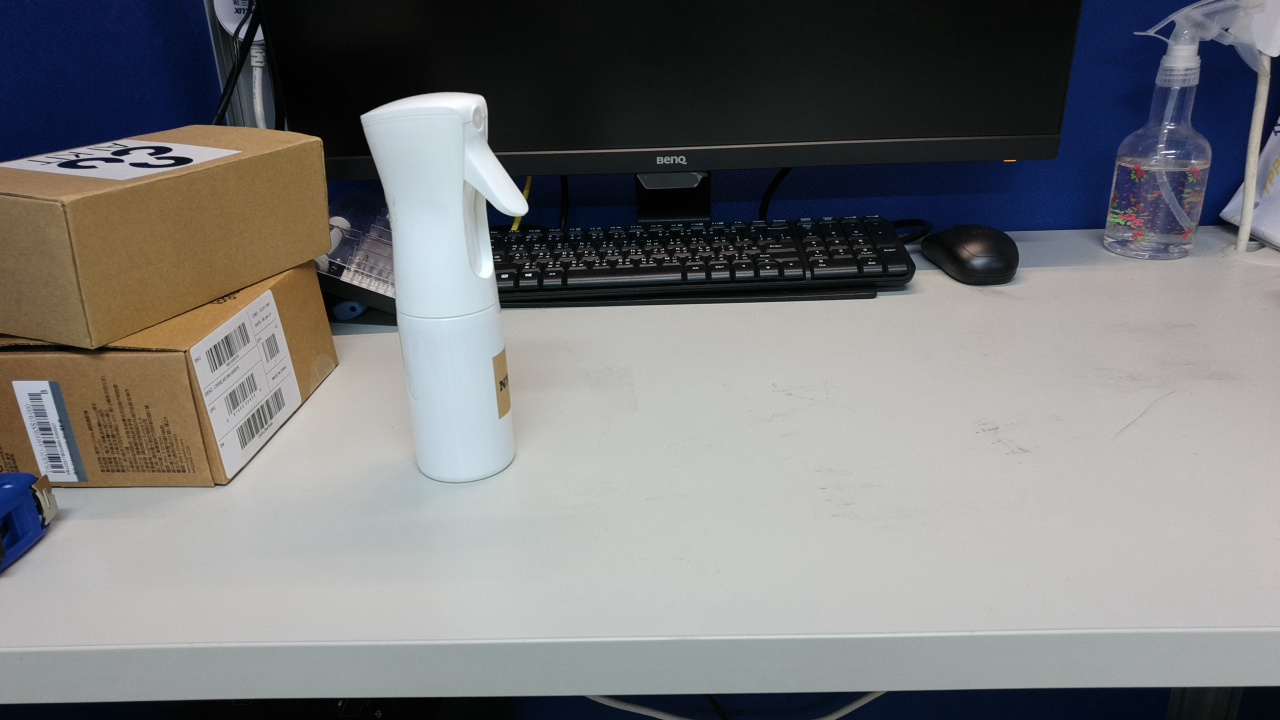long: (276, 521, 478, 700)
